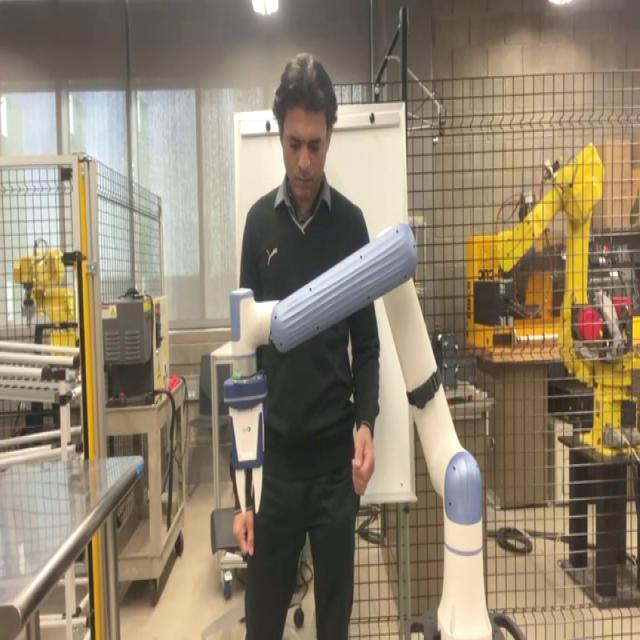robot: (220, 220, 524, 637)
